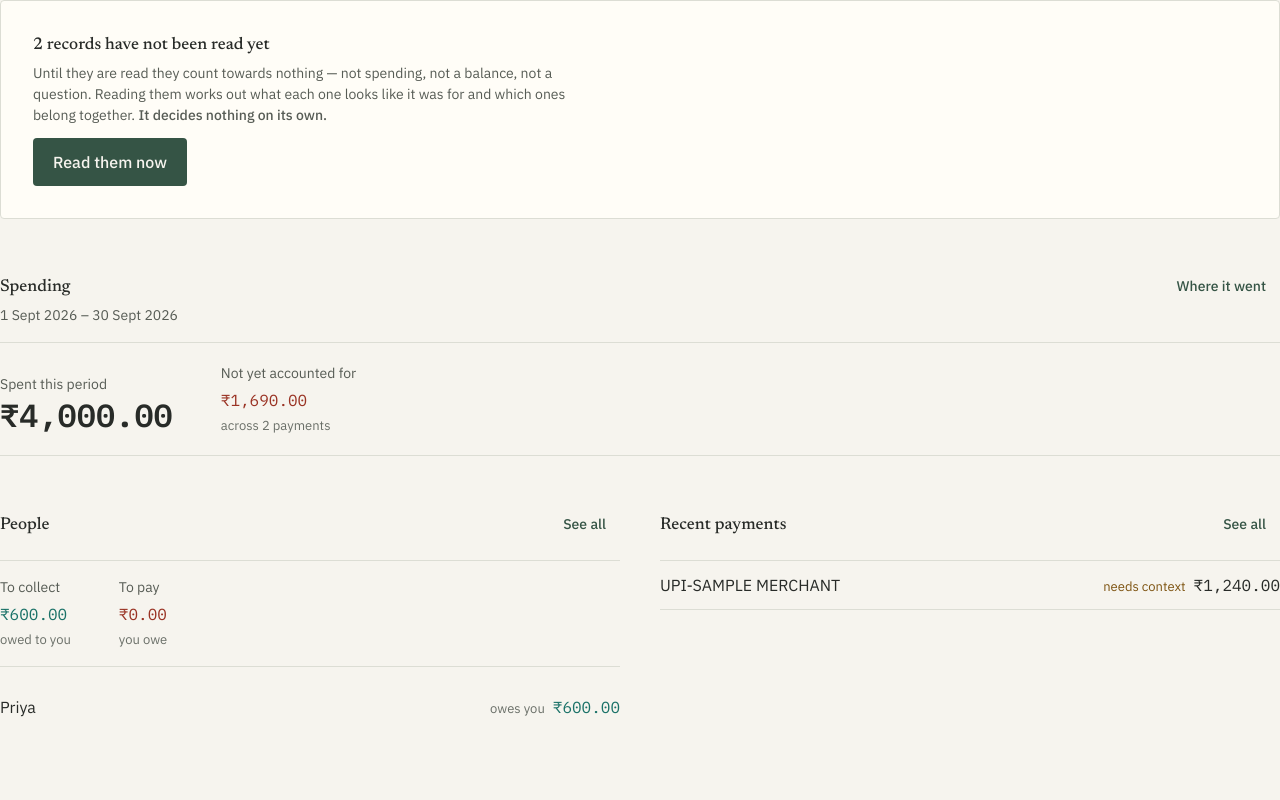
the overview › states the consequence before reading them, and keeps what it found afterwards
The image size is (1280, 800).
Click the button "Read them now" at point(110, 162), box x1=33 y1=138 x2=187 y2=186
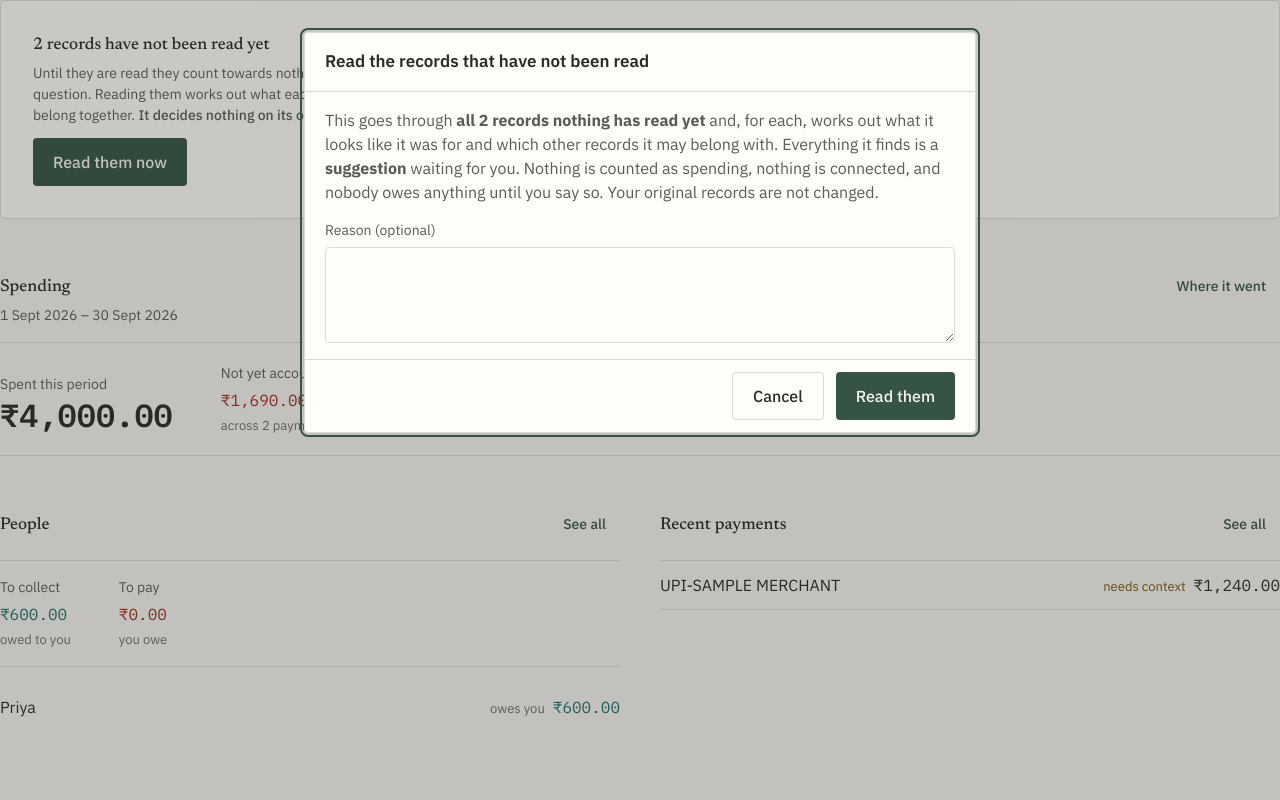
Expected: the dialog shows "all 2 records", x1=456 y1=110 x2=549 y2=130
Expected: the dialog shows "nobody owes anything until you say so", x1=325 y1=158 x2=940 y2=202
Click the button "Read them" at point(895, 396), box x1=836 y1=372 x2=955 y2=420
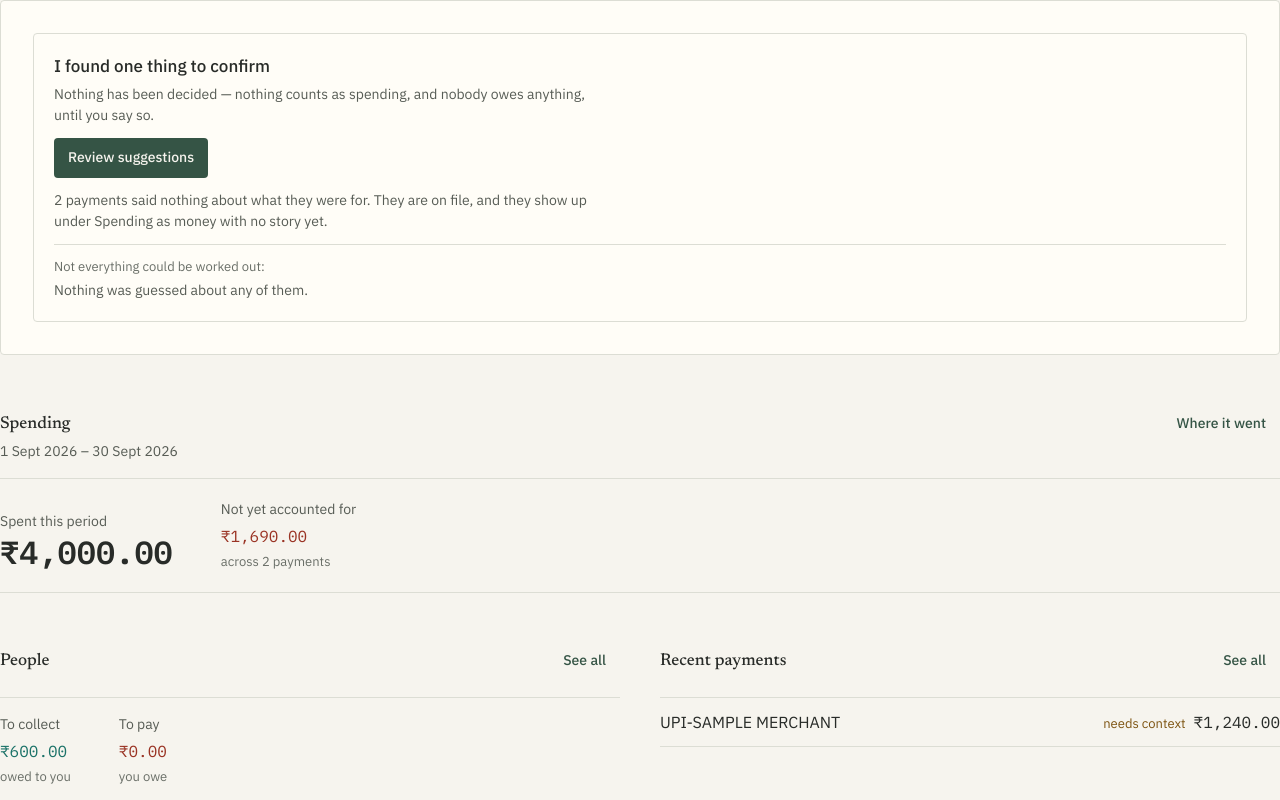
Expected: the heading "I found one thing to confirm" is shown, x1=54 y1=55 x2=270 y2=77
Expected: the text "Not everything could be worked out:" is shown, x1=54 y1=258 x2=265 y2=274
Expected: the list item "Nothing was guessed about any of them." is shown, x1=54 y1=281 x2=308 y2=299
